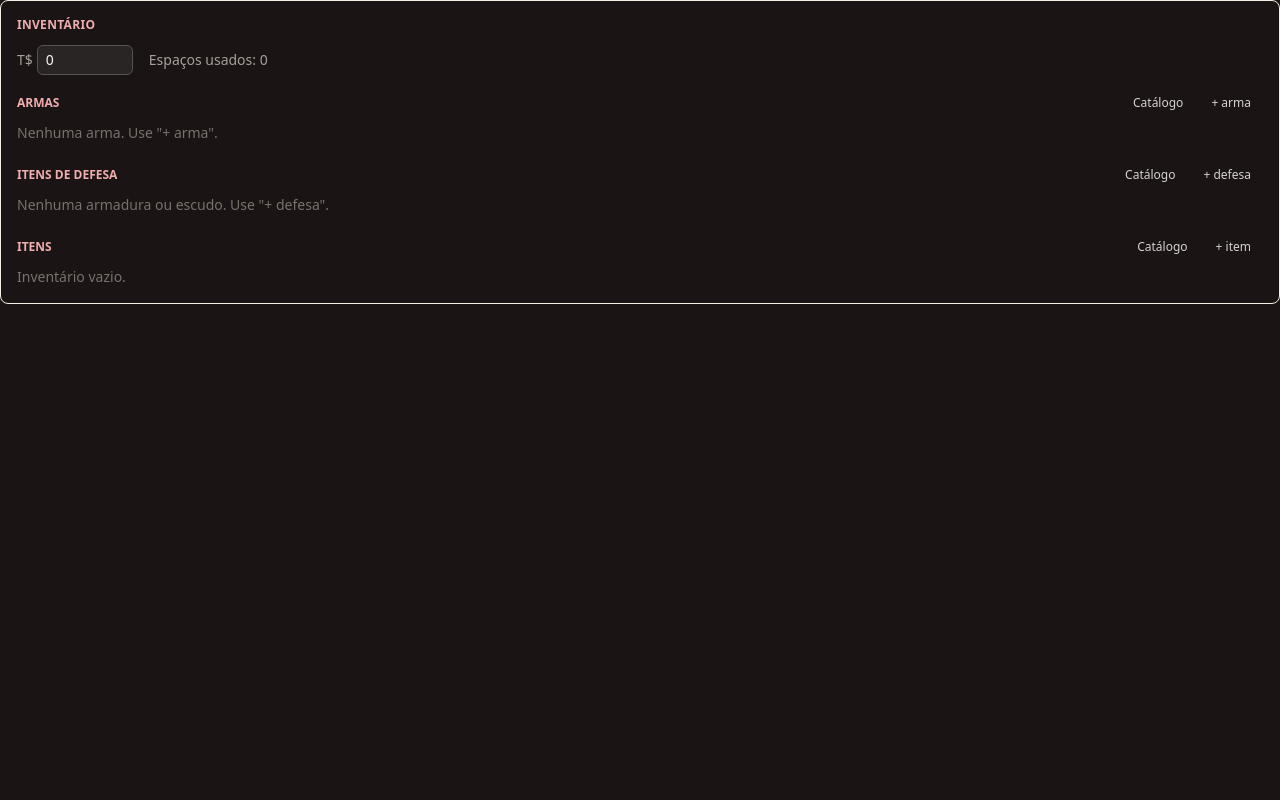
it: InventoryPanel — catálogo em modal › abre o catálogo num modal, adiciona o item e fecha o modal
# Abre o catálogo do primeiro grupo (Armas).
Click the button "Catálogo" in the row of "Armas".
click(1158, 103)  # box left=1121, top=87, right=1195, bottom=119
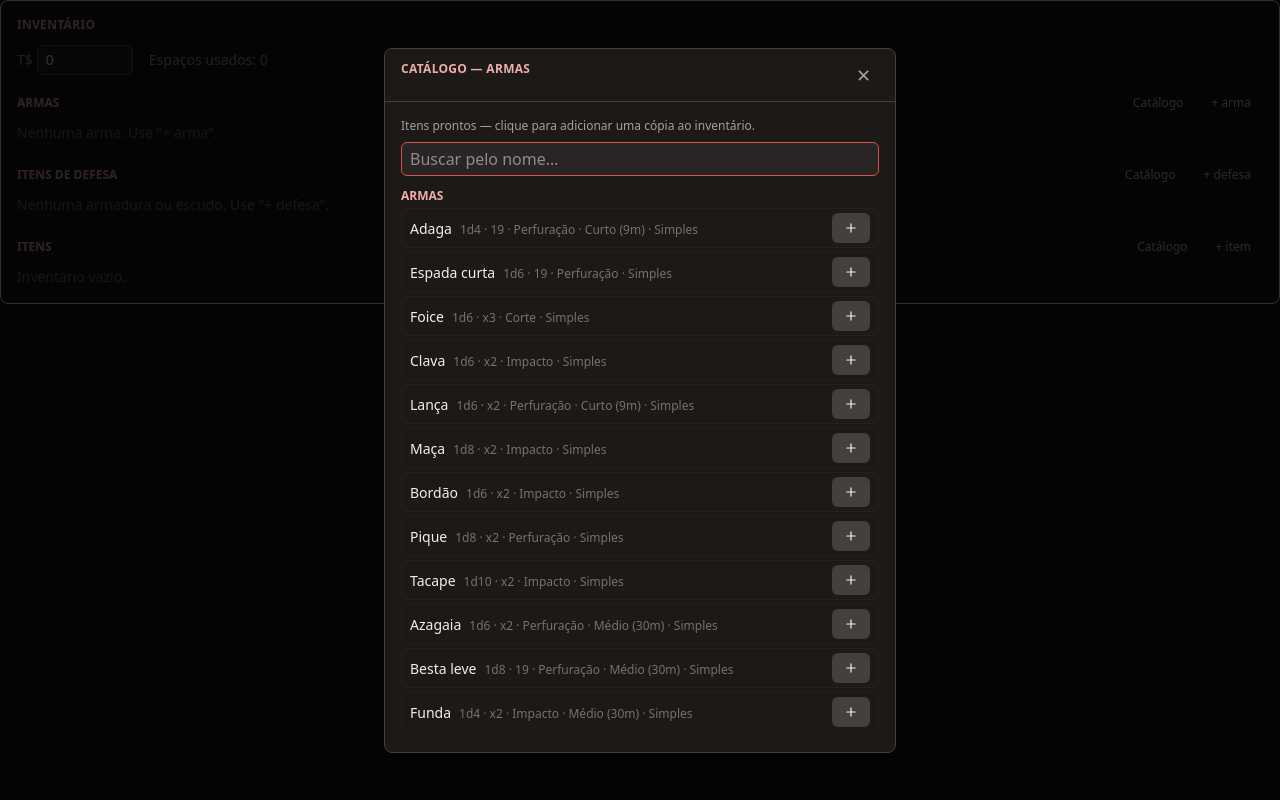
Expected: the list item "Adaga" shows "1d4", left=410, top=216, right=824, bottom=240
Expected: the list item "Adaga" shows "Perfuração", left=410, top=216, right=824, bottom=240
Click the button named "Adicionar Adaga".
click(851, 228)  # box left=832, top=212, right=870, bottom=242
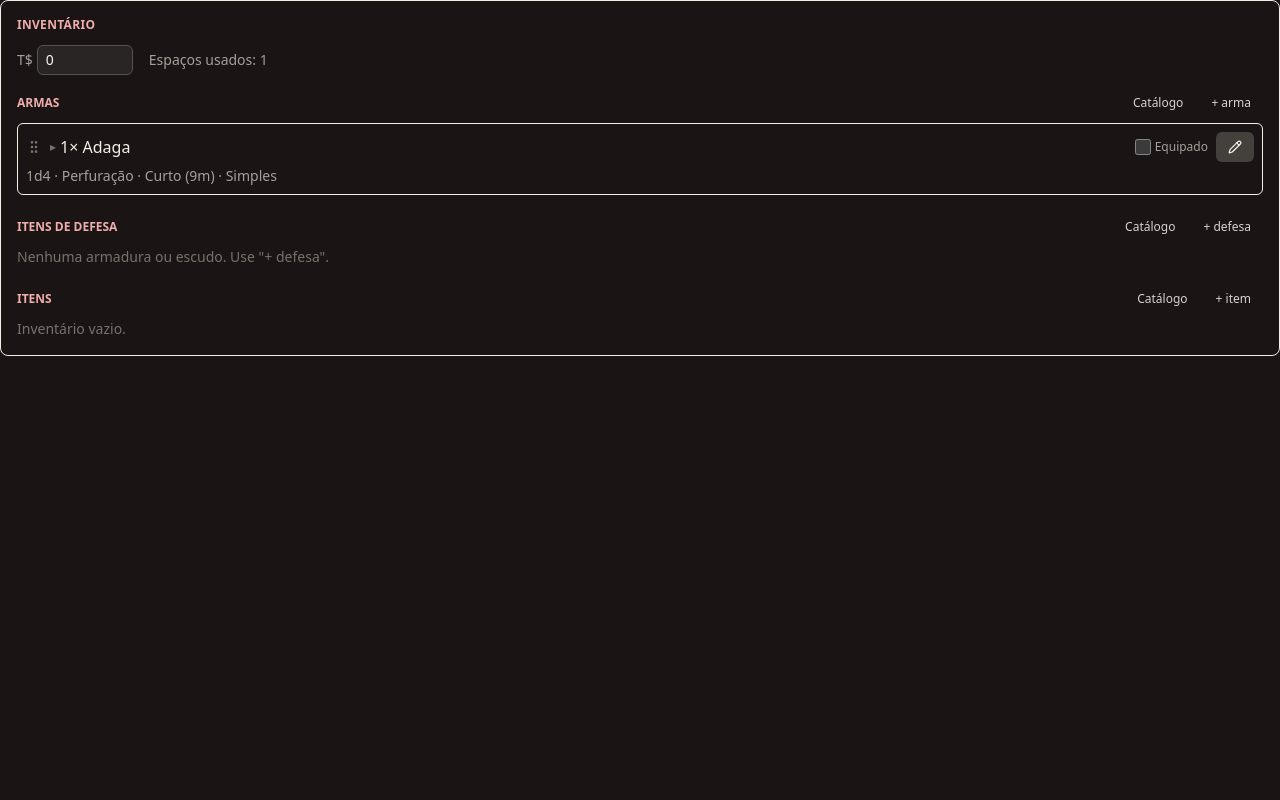
Expected: the dialog is gone
Expected: the button "▸ 1× Adaga" is shown, left=50, top=136, right=130, bottom=158
